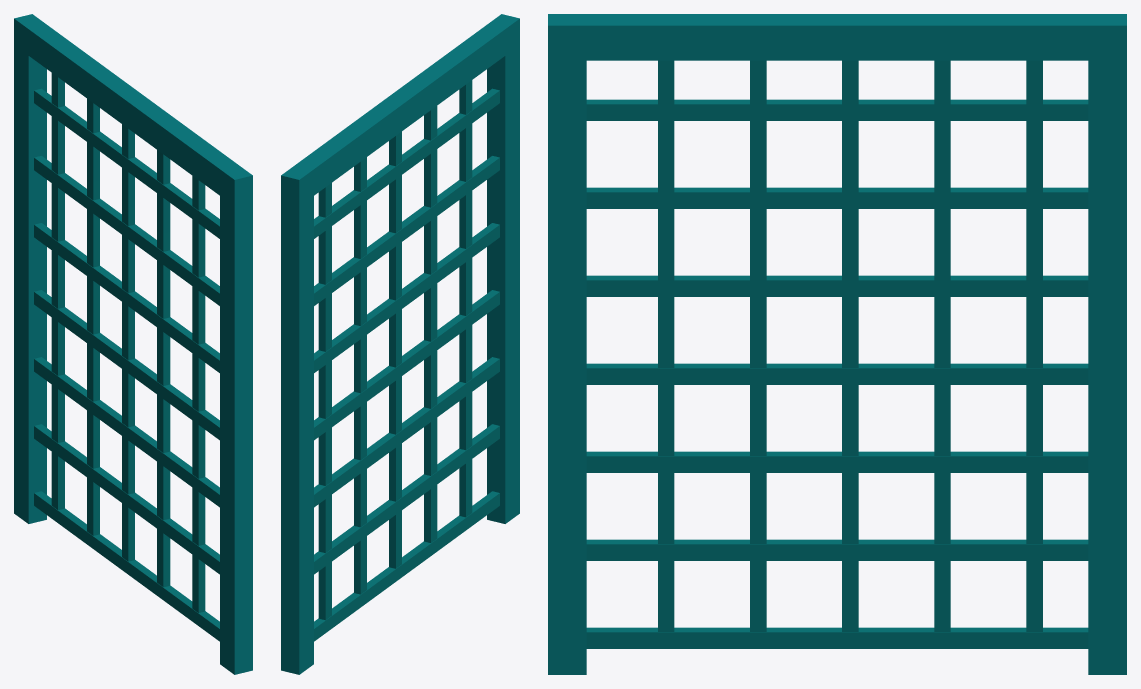
Rendered from Fence_1_C_2.fbx.
3 views of the same model, side by side, from view 1: azimuth 30°, elevation 25°; view 2: azimuth 150°, elevation 25°; view 3: azimuth 270°, elevation 25° (orthographic). The views are drawn at different scales.
Parts seen in each view (by area): view 1: Fence_1_C_2; view 2: Fence_1_C_2; view 3: Fence_1_C_2.
Part boxes in pixels (x1,y1,x2,y2): Fence_1_C_2: [14, 14, 252, 674]; Fence_1_C_2: [281, 14, 519, 674]; Fence_1_C_2: [548, 14, 1126, 674].
Size of the model in its own units: 9.6 by 248 by 200.
